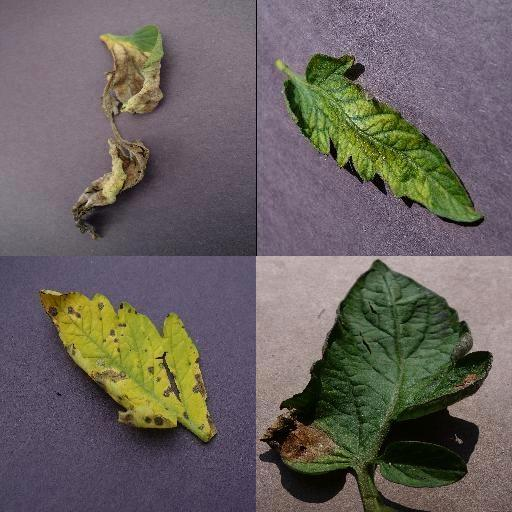Late Blight: (259, 257, 493, 473), (73, 24, 169, 238)
Mosaic Virus: (282, 53, 484, 223)
Septoria: (38, 286, 218, 446)
